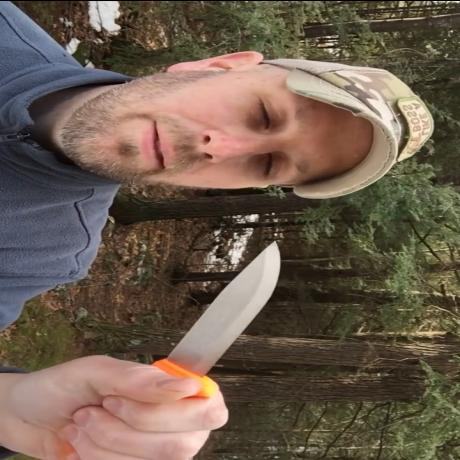1: (0, 0, 438, 460)
weapon: (154, 232, 292, 388)
